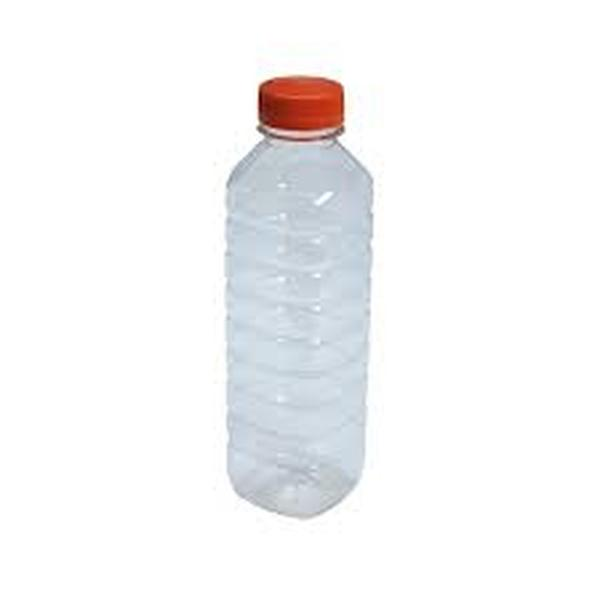tutuma: (220, 74, 376, 522)
